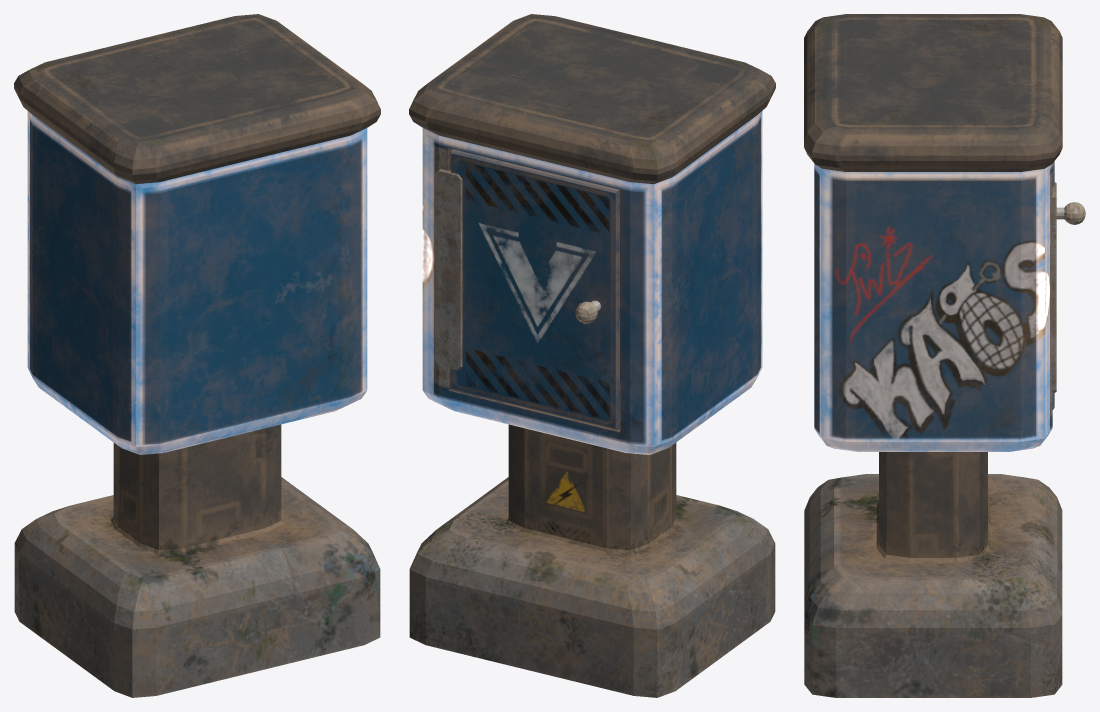
Rendered from FUT0410007.fbx.
3 views of the same model, side by side, from view 1: azimuth 30°, elevation 25°; view 2: azimuth 150°, elevation 25°; view 3: azimuth 270°, elevation 25° (orthographic). The views are drawn at different scales.
Parts seen in each view (by area): view 1: smFUT0410007; view 2: smFUT0410007; view 3: smFUT0410007.
Part boxes in pixels (x1,y1,x2,y2): smFUT0410007: [14, 14, 380, 697]; smFUT0410007: [409, 14, 775, 697]; smFUT0410007: [804, 14, 1085, 697].
Size of the model in its own units: 154 by 307 by 140.
1 material, 1 textured.
